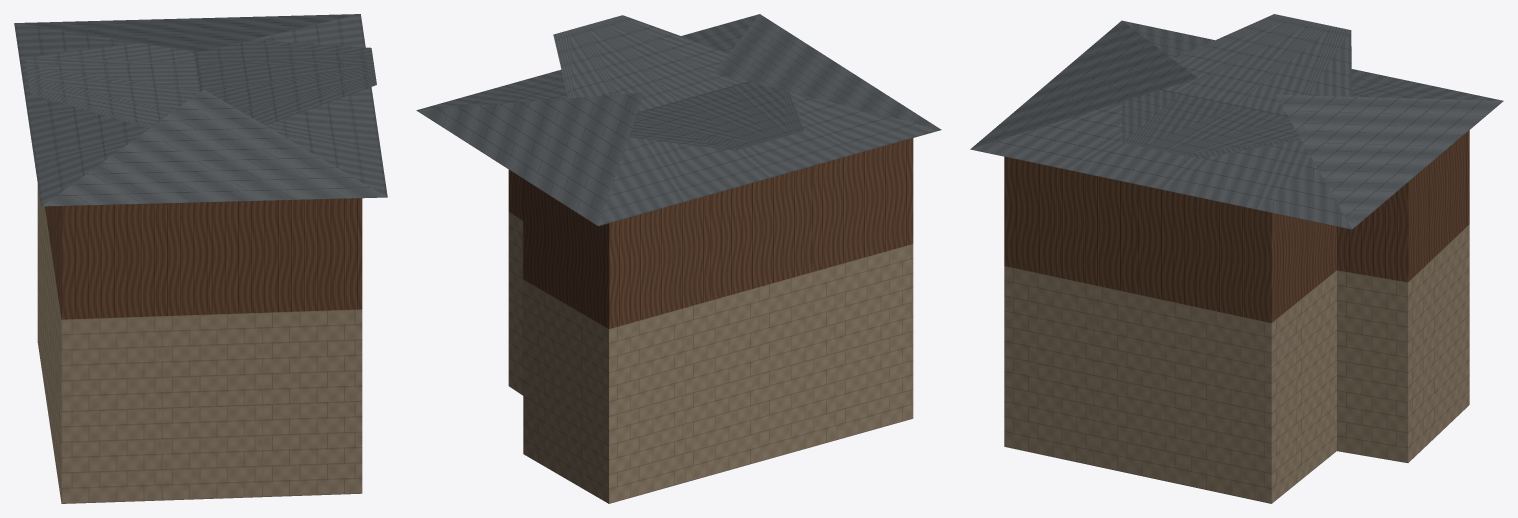
File: bld_c6_38_525.gltf
3 views of the same model, side by side, from view 1: azimuth 30°, elevation 25°; view 2: azimuth 150°, elevation 25°; view 3: azimuth 270°, elevation 25° (orthographic). The views are drawn at different scales.
Visible parts, largest first — view 1: bld_c6_38_525; view 2: bld_c6_38_525; view 3: bld_c6_38_525.
Boxes of the visible parts, left/top/right/bottom form: bld_c6_38_525: left=14, top=14, right=387, bottom=503; bld_c6_38_525: left=416, top=14, right=941, bottom=503; bld_c6_38_525: left=970, top=14, right=1503, bottom=503.
Size of the model in its own units: 11.62 by 8.8 by 12.53.
Materials: 3 (3 with a texture image).
